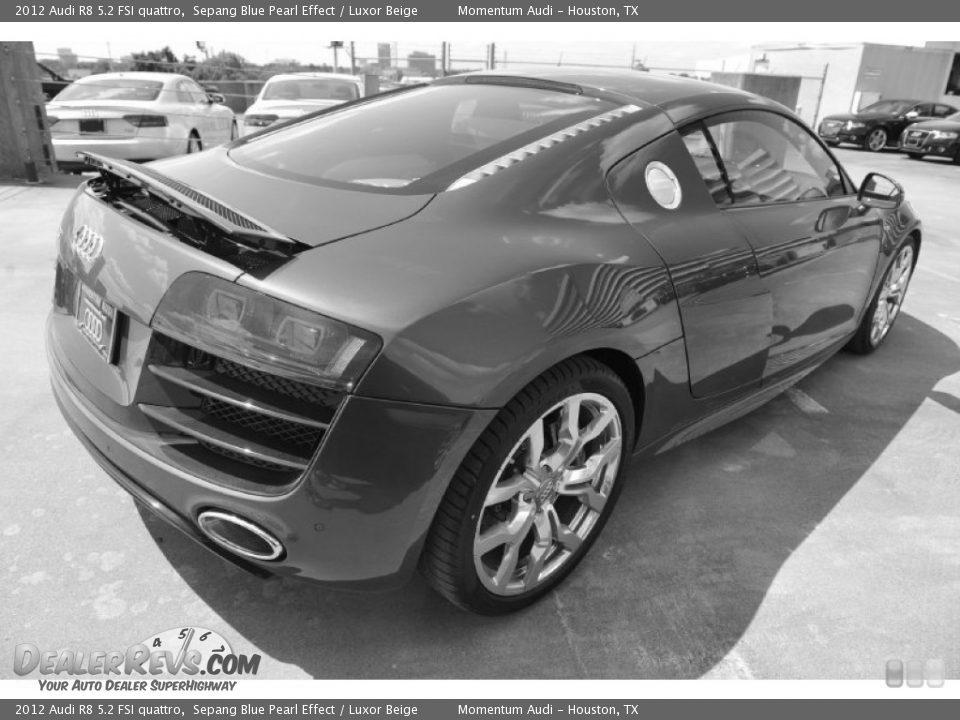car: (46, 71, 926, 629)
